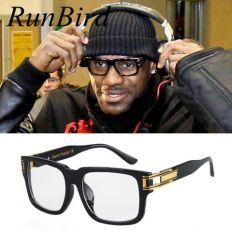sunglasses: (8, 144, 220, 227), (77, 52, 157, 78)
